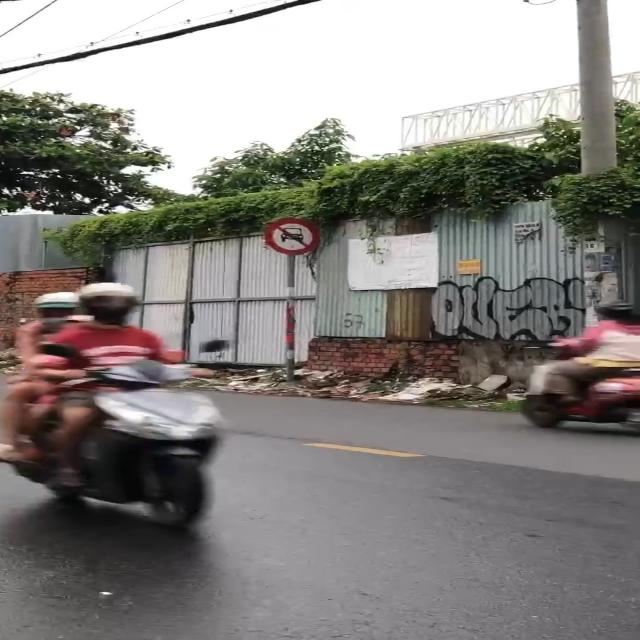Bien bao cam xe oto: (262, 216, 329, 257)
